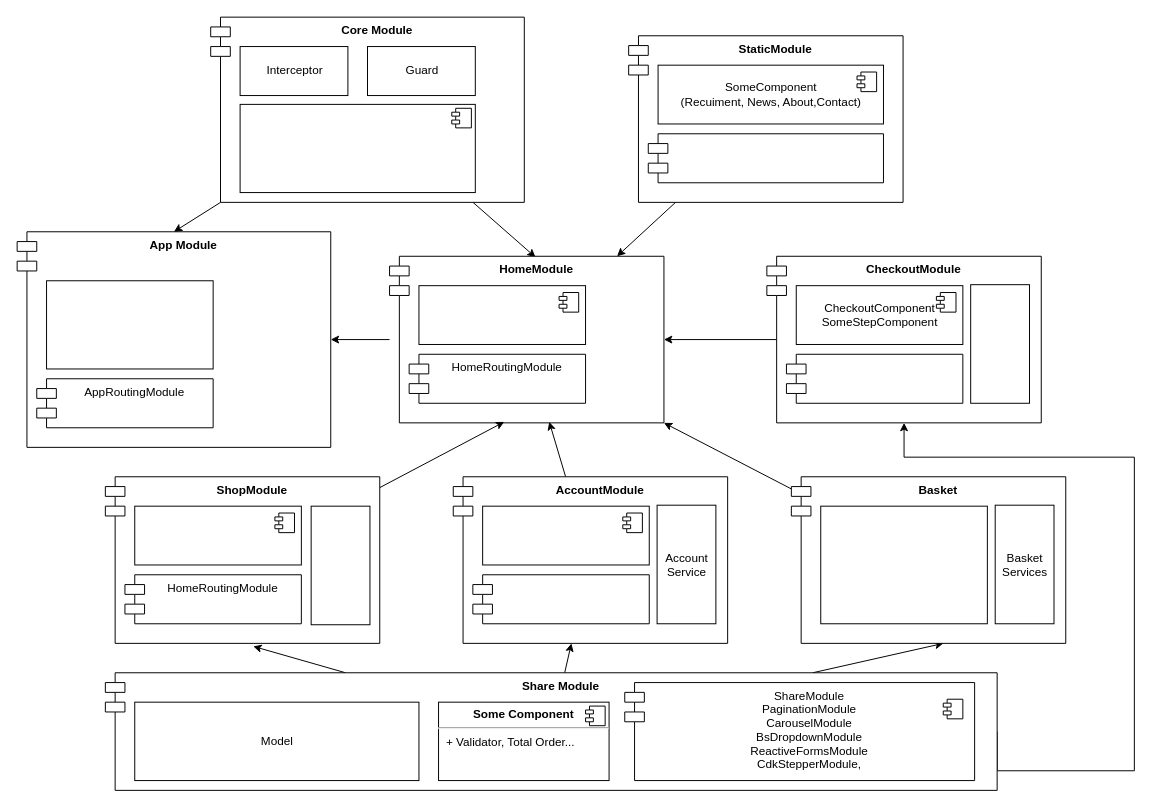
Some shapes in this 1159 by 808 pixel diagram are drawn without their labels. Each missing label, with the centre of its shape:
AccountComponent LoginComponent RegisterComponent: pixel 565 535
AccountRoutingModule: pixel 560 599
AppComponent: pixel 129 324
BasketComponent: pixel 903 564
Checkout Services: pixel 999 343
CheckoutRouting Module: pixel 874 378
HomeComponent: pixel 502 314
Shop Service: pixel 340 565
ShopComponent ProductItemComponent ProductDetailComponent: pixel 217 535
Some Component + Nav-bar, Section + Notfound, Error...: pixel 357 148
StaticRoutingModule: pixel 765 158
